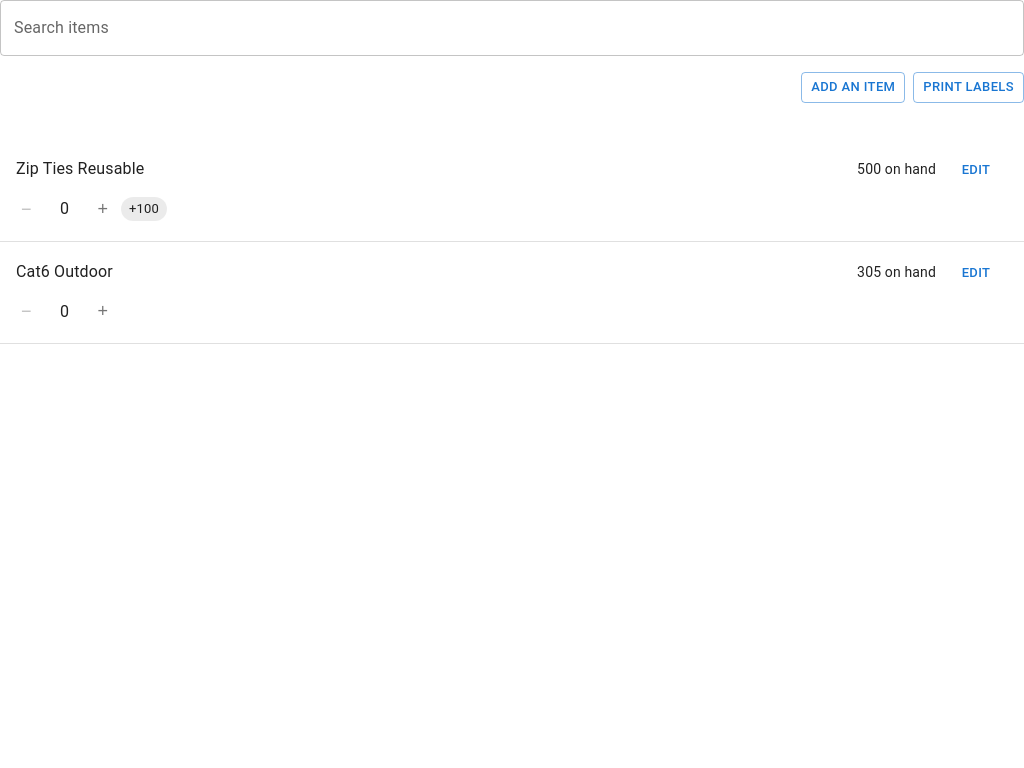
Test case: what goes on the sheet › offers nothing to print until something is chosen
The width and height of the screenshot is (1024, 768).
Expected: the heading "Zip Ties Reusable" is shown, [16, 155, 144, 183]
Click the button "Print labels".
click(969, 87)  # box [913, 72, 1023, 103]
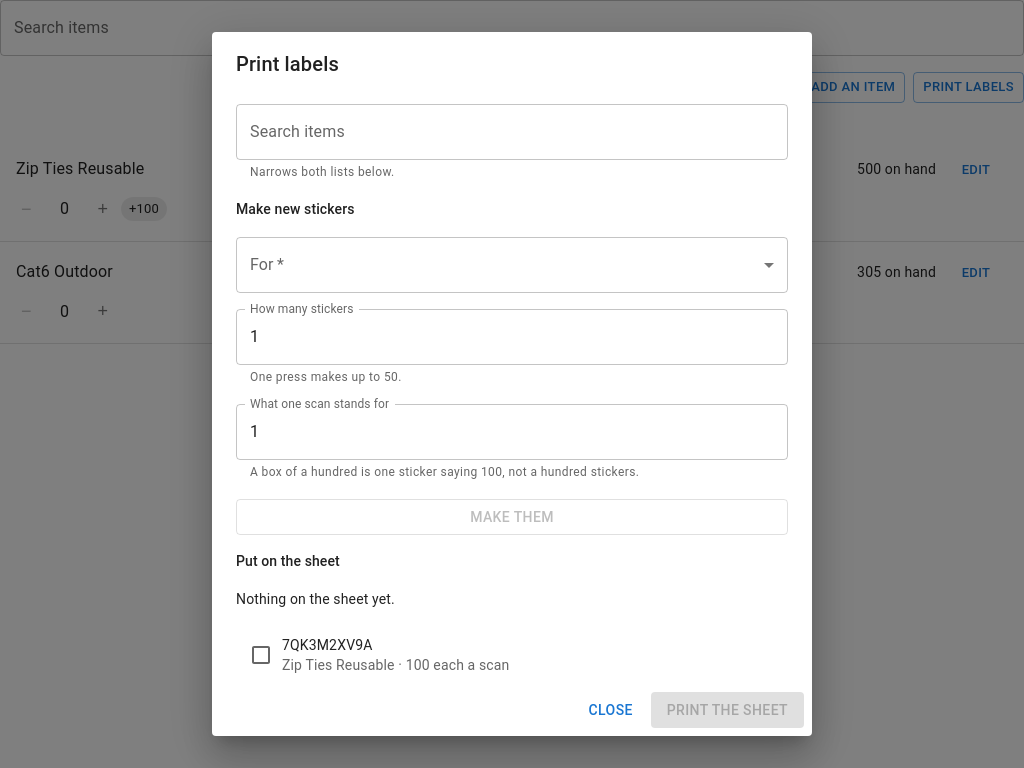
Now the button "Print the sheet" is disabled, box [651, 692, 804, 728]
Now the text "Nothing on the sheet yet." is shown, box [236, 591, 395, 607]
